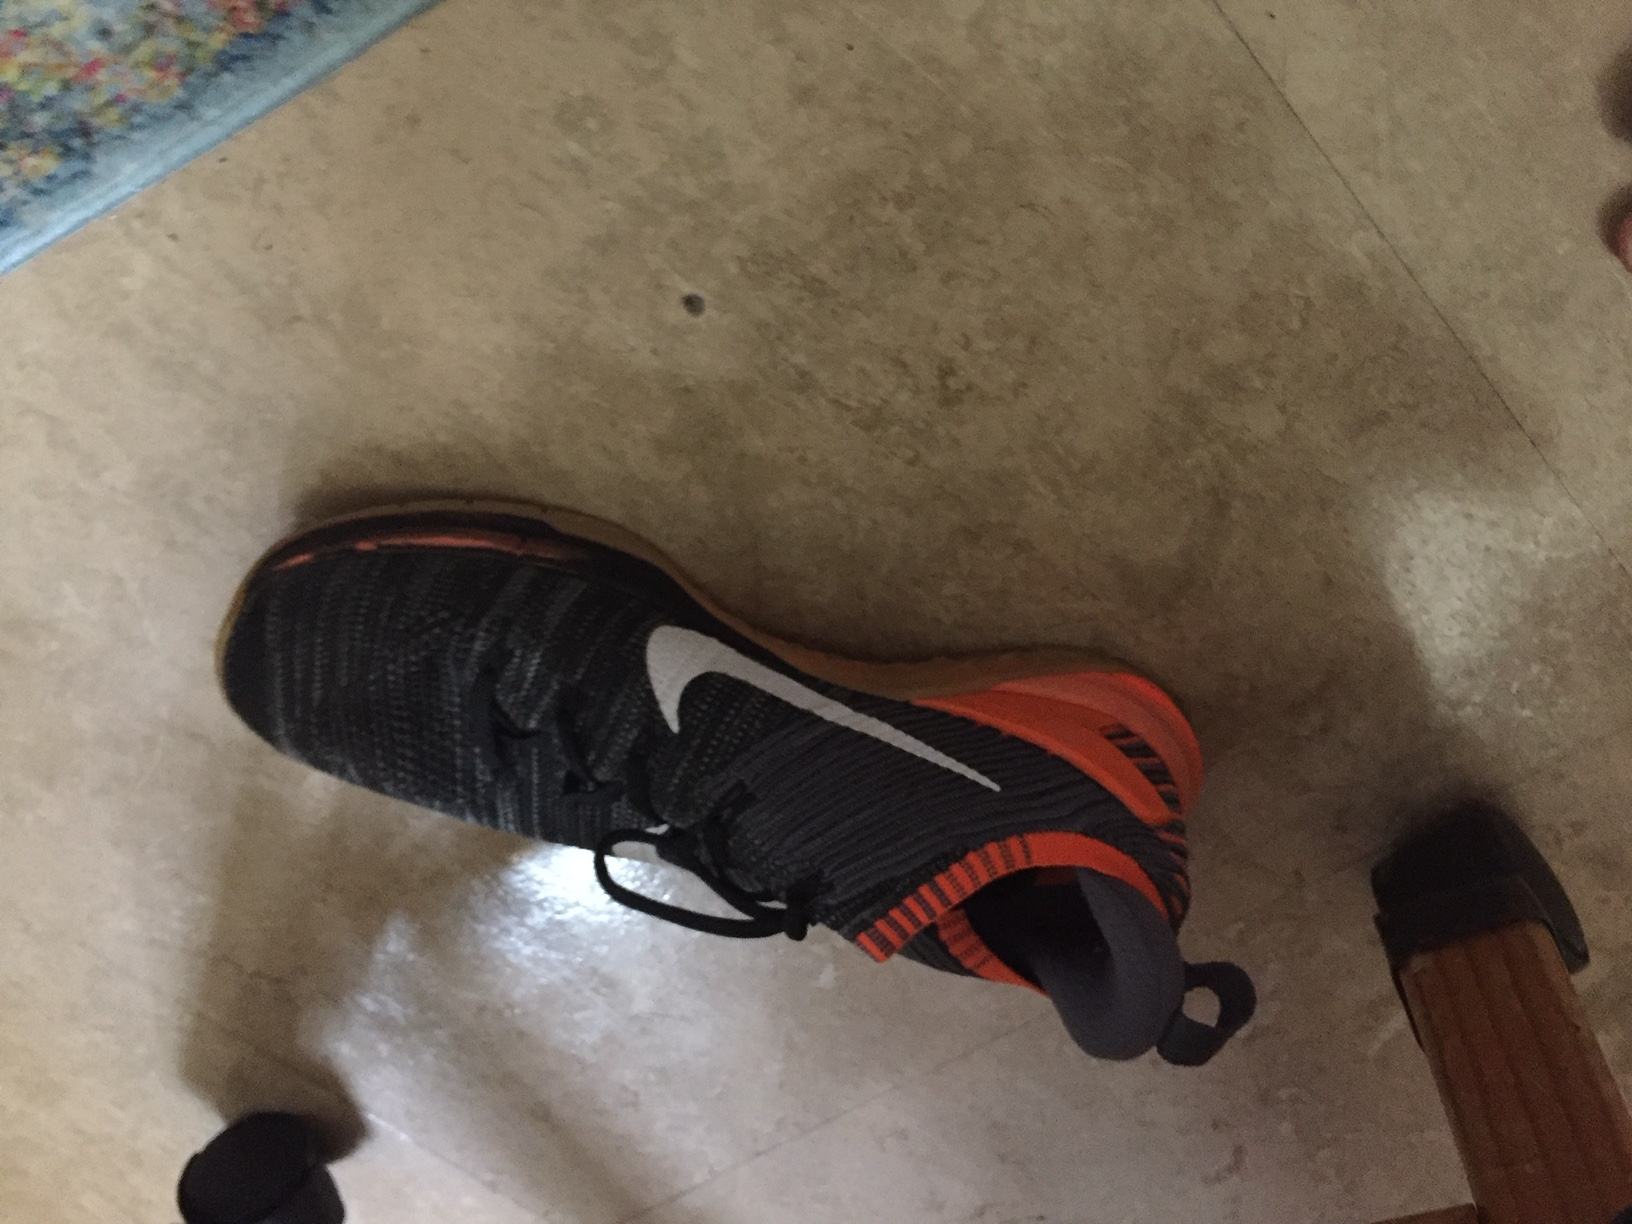car: (212, 486, 1316, 1075)
